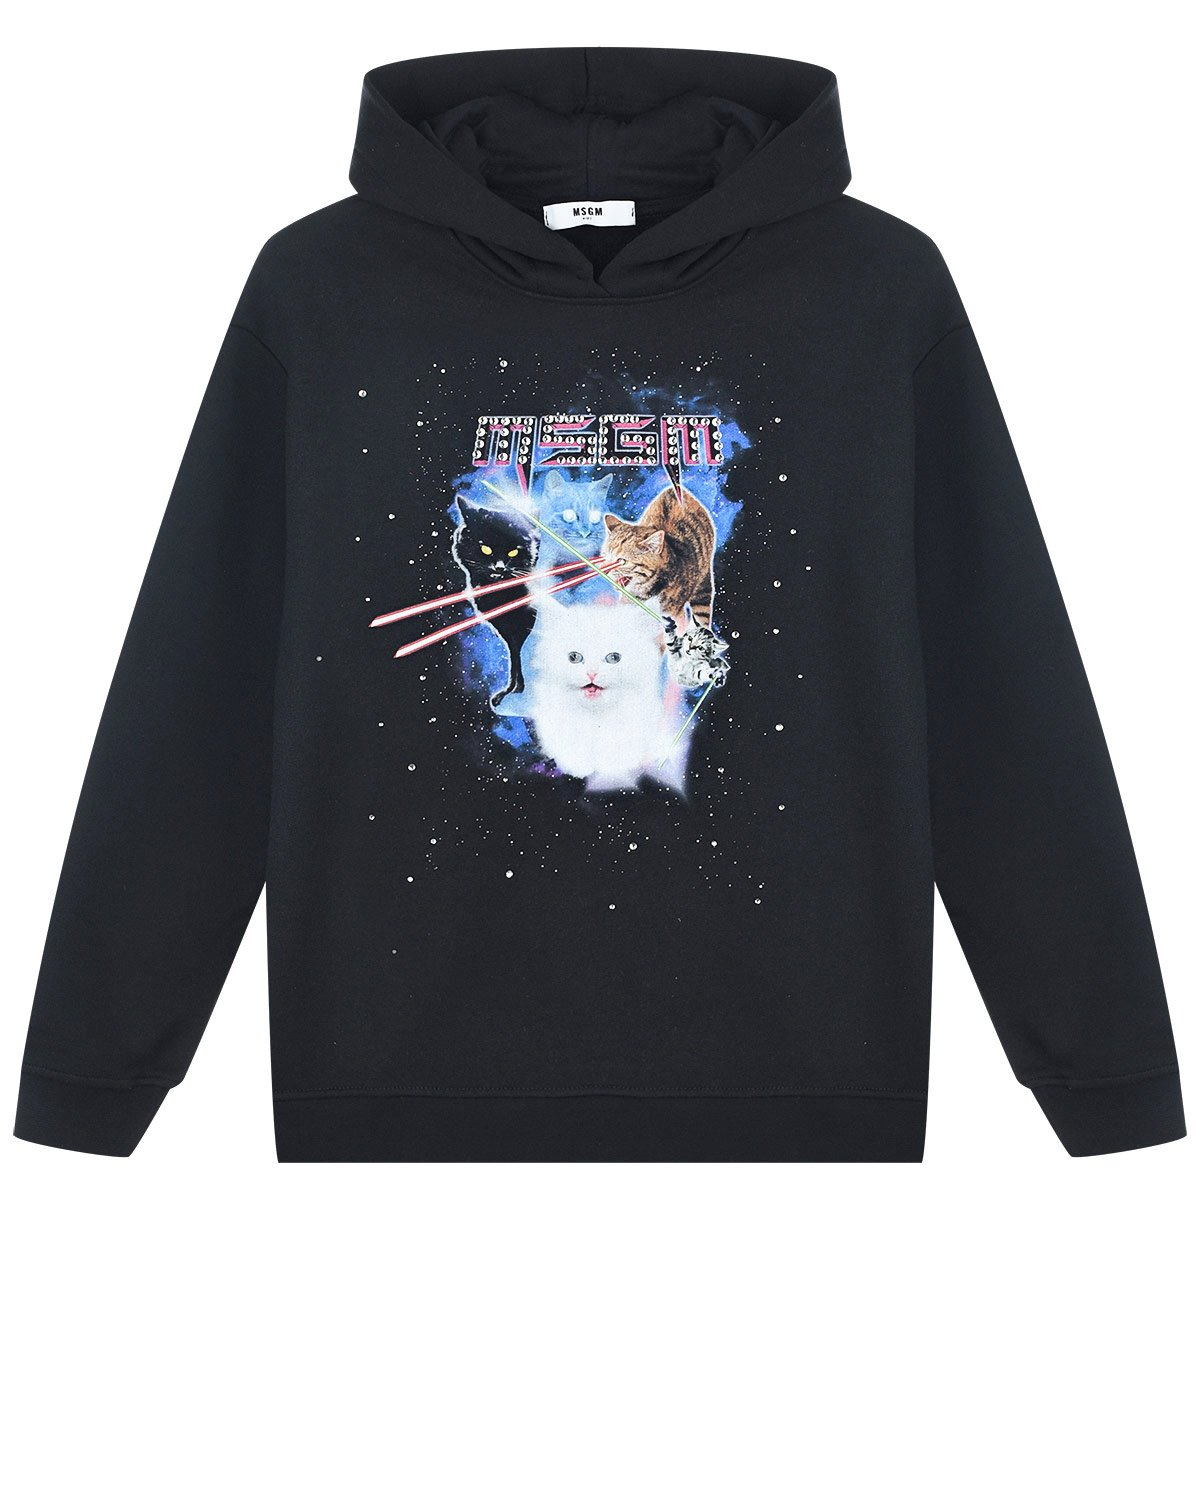cat: (516, 589, 684, 736), (441, 500, 545, 594), (535, 456, 615, 553), (594, 512, 686, 591)
